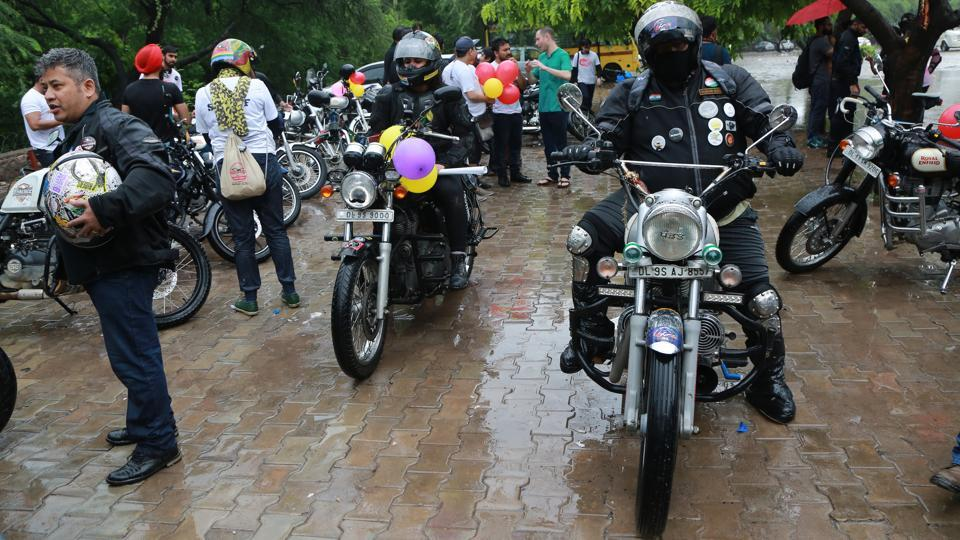number_plate: (623, 261, 714, 288), (332, 201, 399, 225)
